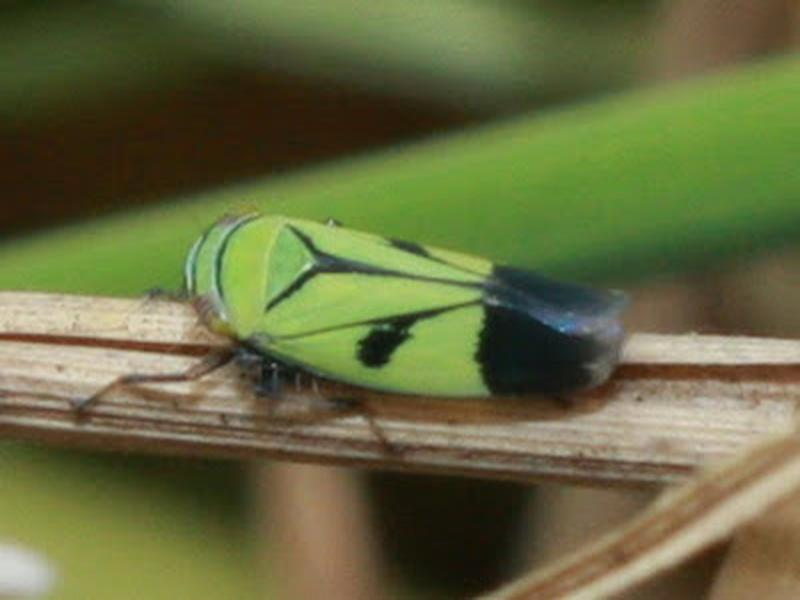Rice_horned_caterpillar: (166, 194, 637, 429)
